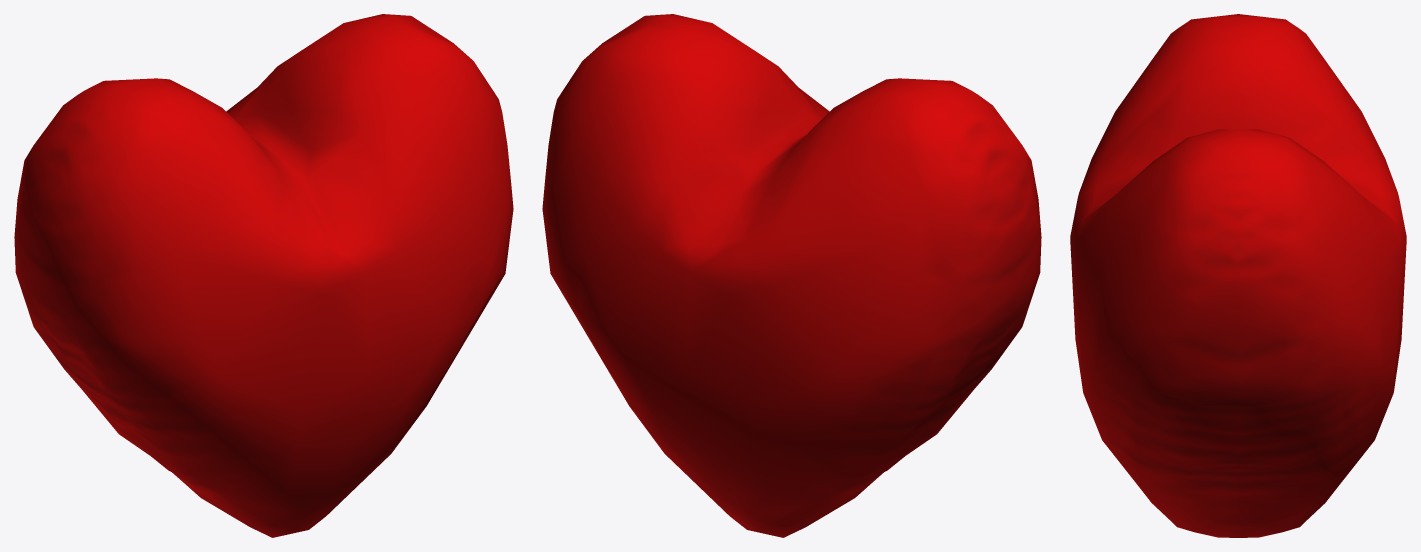
File: PartyBalloons02_5.FBX
3 renders of one model, left to right at view 1: azimuth 30°, elevation 25°; view 2: azimuth 150°, elevation 25°; view 3: azimuth 270°, elevation 25°, orthographic. The views are drawn at different scales.
Parts seen in each view (by area): view 1: PartyBalloons02_5; view 2: PartyBalloons02_5; view 3: PartyBalloons02_5.
Part boxes in pixels (x1,y1,x2,y2): PartyBalloons02_5: (14, 14, 513, 537); PartyBalloons02_5: (542, 14, 1041, 537); PartyBalloons02_5: (1070, 14, 1406, 537).
Size of what is drawn, in the model's own units: 0.3951 by 0.3935 by 0.2649.
